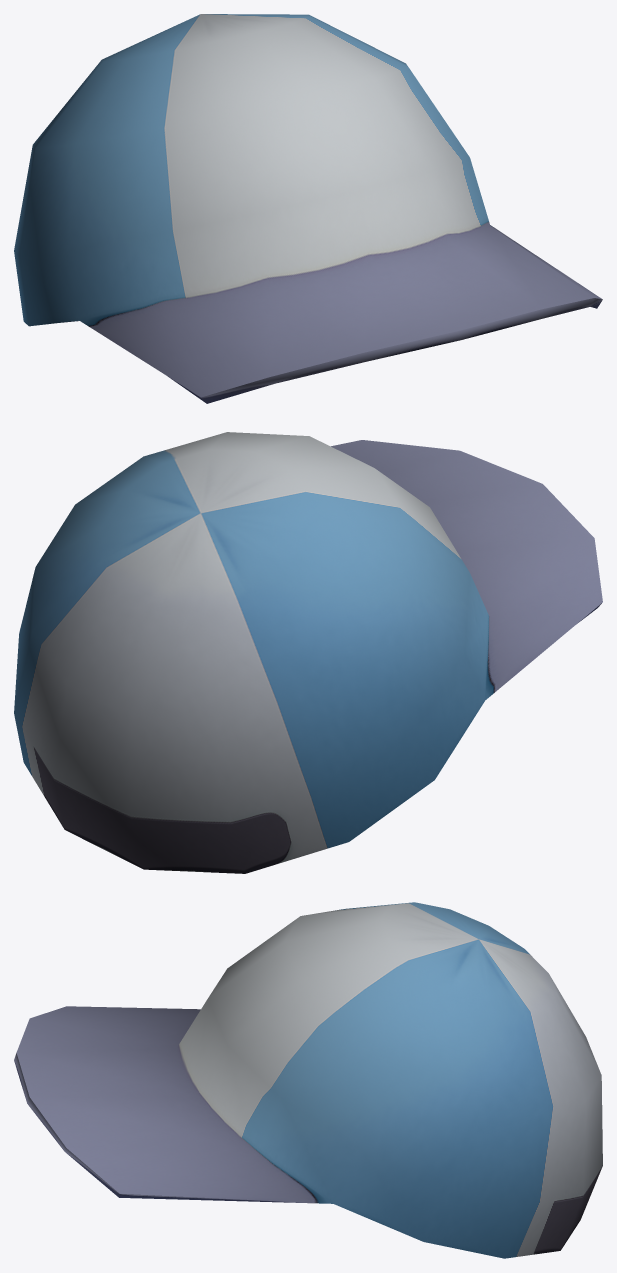
Rendered from HatA.fbx.
3 views of the same model, one above another, from view 1: azimuth 30°, elevation 25°; view 2: azimuth 150°, elevation 25°; view 3: azimuth 270°, elevation 25° (orthographic). The views are drawn at different scales.
Visible parts, largest first — view 1: HatA; view 2: HatA; view 3: HatA.
Boxes of the visible parts, left/top/right/bottom form: HatA: left=14, top=14, right=602, bottom=403; HatA: left=14, top=432, right=602, bottom=873; HatA: left=14, top=902, right=602, bottom=1258.
Bounding box in the file's own units: 20.45 × 16.17 × 28.8.
